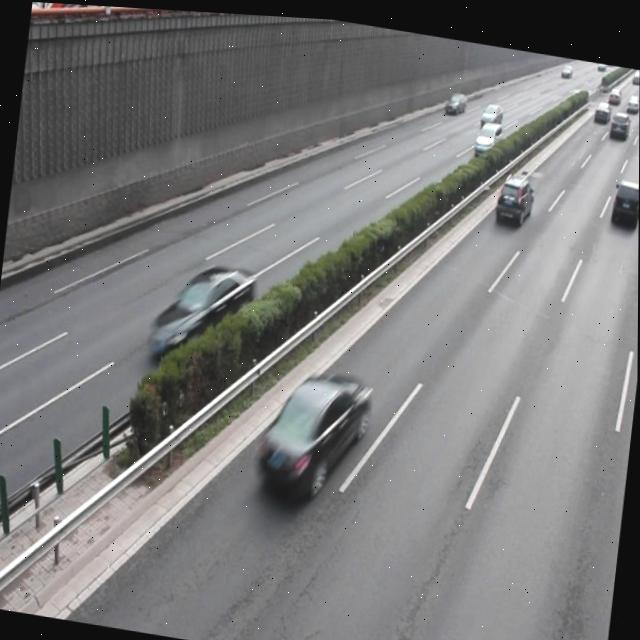car: (255, 353, 372, 494), (147, 249, 258, 370), (492, 164, 535, 223), (607, 168, 639, 222)
